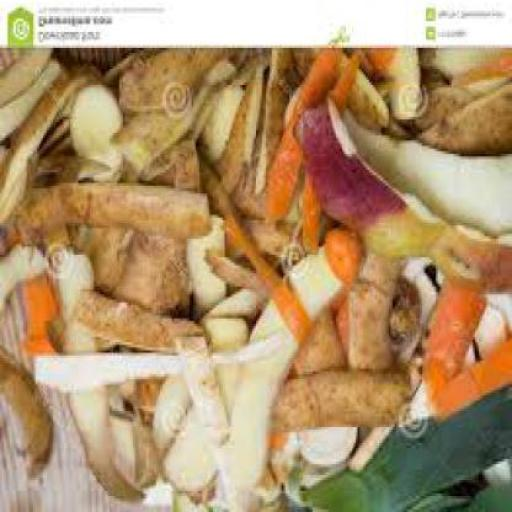biodegradable: (0, 49, 511, 512), (207, 252, 346, 511), (322, 104, 510, 249), (296, 386, 510, 512), (228, 255, 338, 496), (331, 99, 510, 246), (43, 258, 144, 506), (300, 392, 508, 510), (195, 167, 305, 356), (150, 282, 262, 464), (0, 69, 102, 231), (108, 53, 240, 178), (162, 321, 248, 496), (260, 50, 340, 218), (364, 210, 510, 300), (224, 217, 314, 353), (10, 183, 209, 242), (302, 114, 392, 233), (270, 368, 406, 438), (160, 321, 229, 451), (417, 45, 510, 138), (422, 337, 510, 430), (114, 50, 236, 117), (68, 299, 204, 356), (33, 358, 254, 393), (407, 85, 510, 156), (209, 74, 260, 210), (250, 54, 298, 198), (348, 377, 412, 480), (0, 352, 49, 486), (418, 287, 477, 395), (113, 240, 193, 318), (217, 79, 264, 210), (0, 61, 63, 146), (196, 88, 242, 172), (105, 424, 157, 494), (0, 246, 47, 320), (418, 48, 496, 90), (0, 49, 52, 110), (90, 233, 135, 302), (20, 287, 59, 363), (342, 69, 390, 130), (381, 58, 420, 130), (324, 228, 366, 289), (297, 428, 354, 472), (324, 53, 358, 119), (229, 183, 273, 233), (248, 233, 314, 265), (422, 478, 485, 510), (199, 318, 250, 355), (469, 307, 502, 364), (172, 151, 201, 196), (361, 53, 393, 85)
